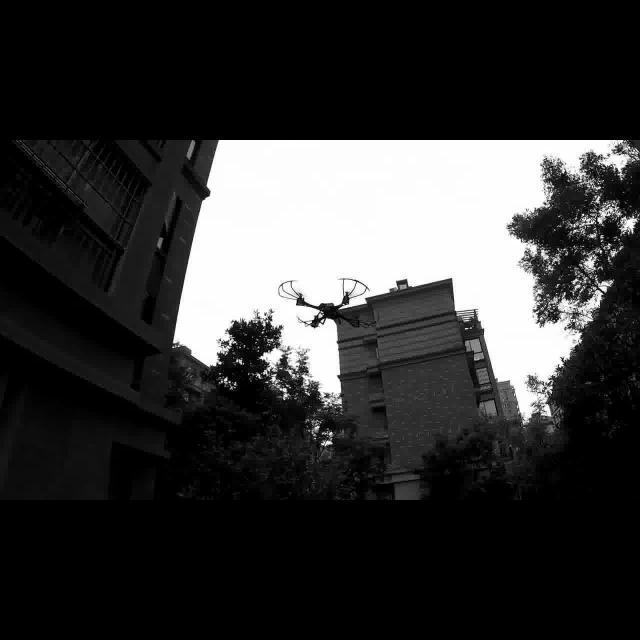Drons: (272, 270, 383, 334)
